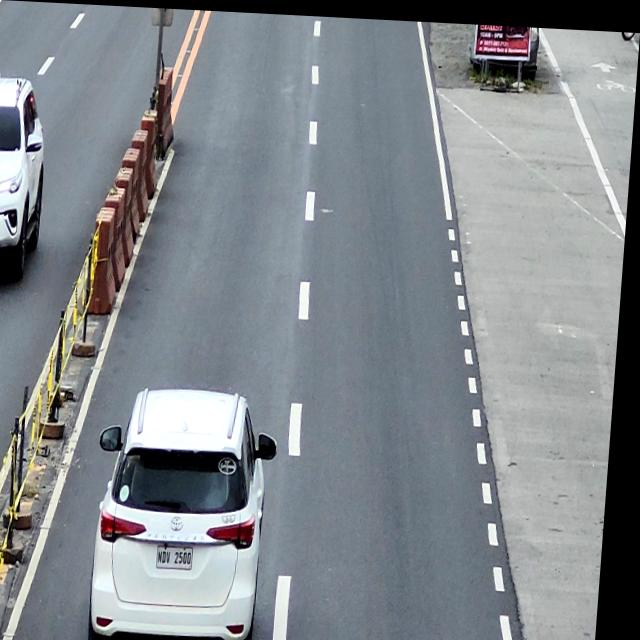Car: (95, 380, 288, 640), (0, 77, 54, 280)
License-Plate: (164, 544, 201, 567)
